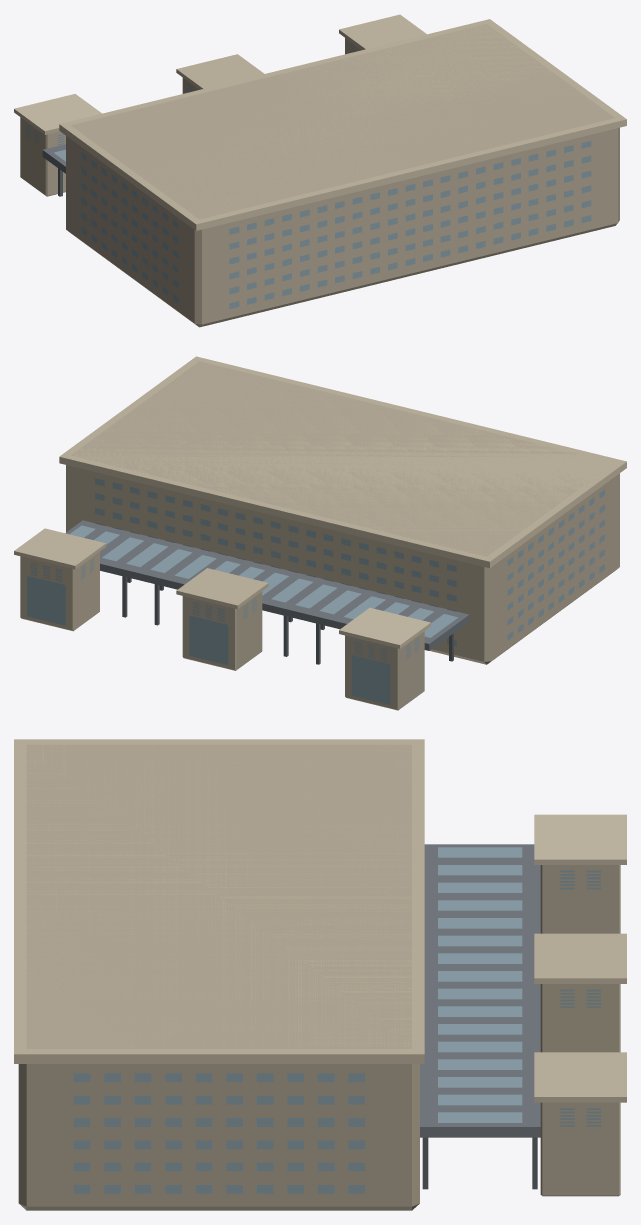
3 renders of one model, top to bottom at view 1: azimuth 30°, elevation 25°; view 2: azimuth 150°, elevation 25°; view 3: azimuth 270°, elevation 25°, orthographic. The views are drawn at different scales.
Visible parts, largest first — view 1: staten-island-ferry-lod0; view 2: staten-island-ferry-lod0; view 3: staten-island-ferry-lod0.
Boxes of the visible parts, box(x1,y1,x2,y2) form: staten-island-ferry-lod0: box(14, 14, 626, 327); staten-island-ferry-lod0: box(14, 356, 626, 710); staten-island-ferry-lod0: box(14, 739, 626, 1210).
Size of the model in its own units: 117 by 28 by 96.2.
